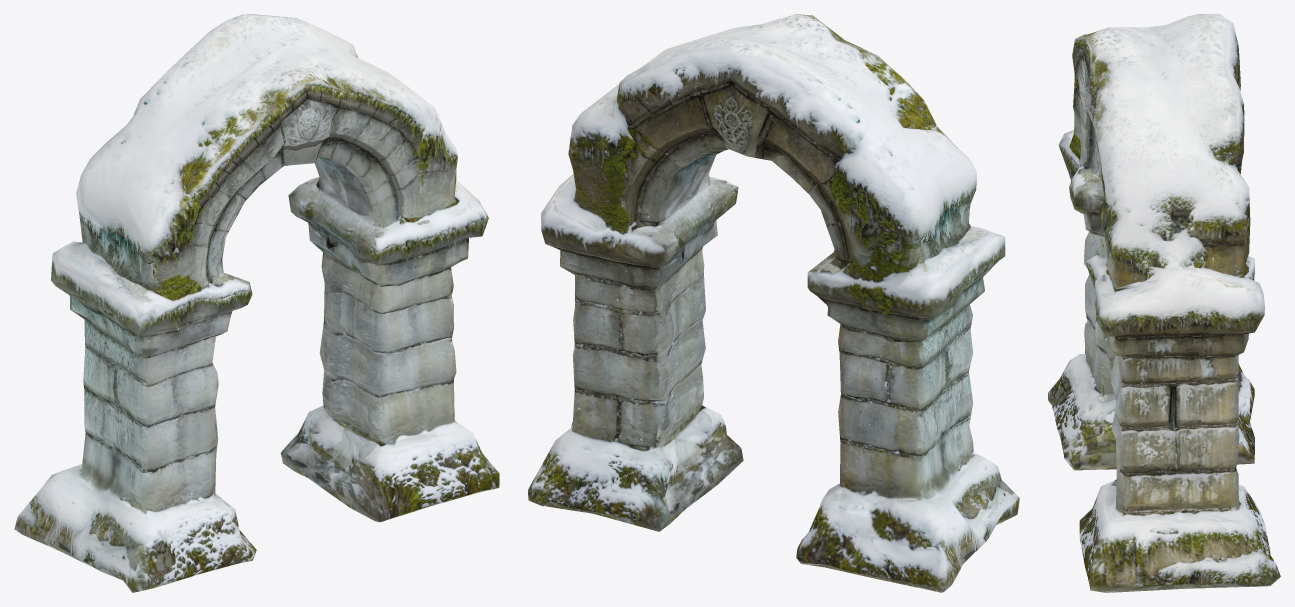
File: free_ultra_low_poly_snowy_stone_arch.glb
3 views of the same model, side by side, from view 1: azimuth 30°, elevation 25°; view 2: azimuth 150°, elevation 25°; view 3: azimuth 270°, elevation 25° (orthographic). The views are drawn at different scales.
Parts seen in each view (by area): view 1: Mesh_0_Material_0_0; view 2: Mesh_0_Material_0_0; view 3: Mesh_0_Material_0_0.
Part boxes in pixels (<box>): Mesh_0_Material_0_0: <box>14,14,499,592</box>; Mesh_0_Material_0_0: <box>528,14,1019,592</box>; Mesh_0_Material_0_0: <box>1048,14,1280,592</box>.
Size of the model in its own units: 1.05 by 1.2 by 0.5208.
Materials: 1 (1 with a texture image).
